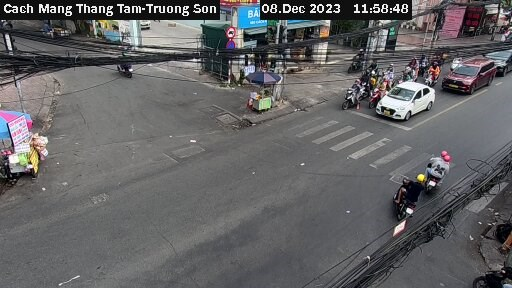car: (371, 82, 436, 127), (447, 55, 493, 96), (486, 39, 512, 71)
motorbike: (387, 169, 435, 222), (419, 144, 462, 177), (341, 81, 365, 111), (401, 57, 425, 81), (423, 63, 445, 85), (350, 50, 369, 75)
